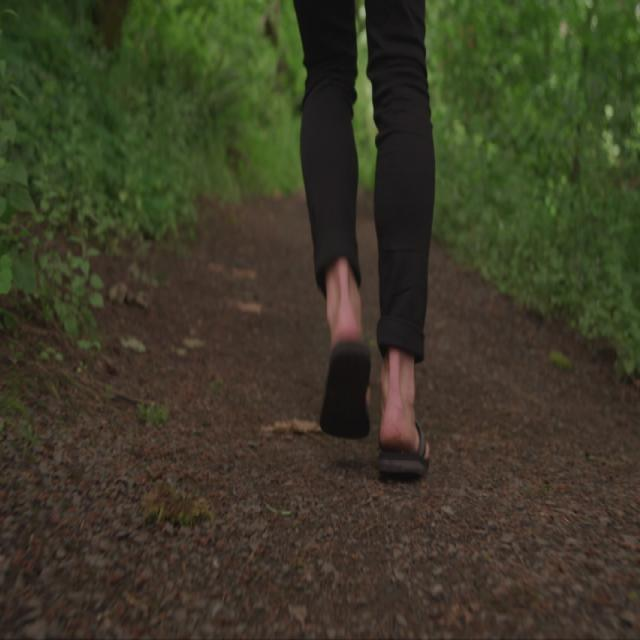No_Shoe: (320, 304, 372, 449), (377, 364, 432, 488)
